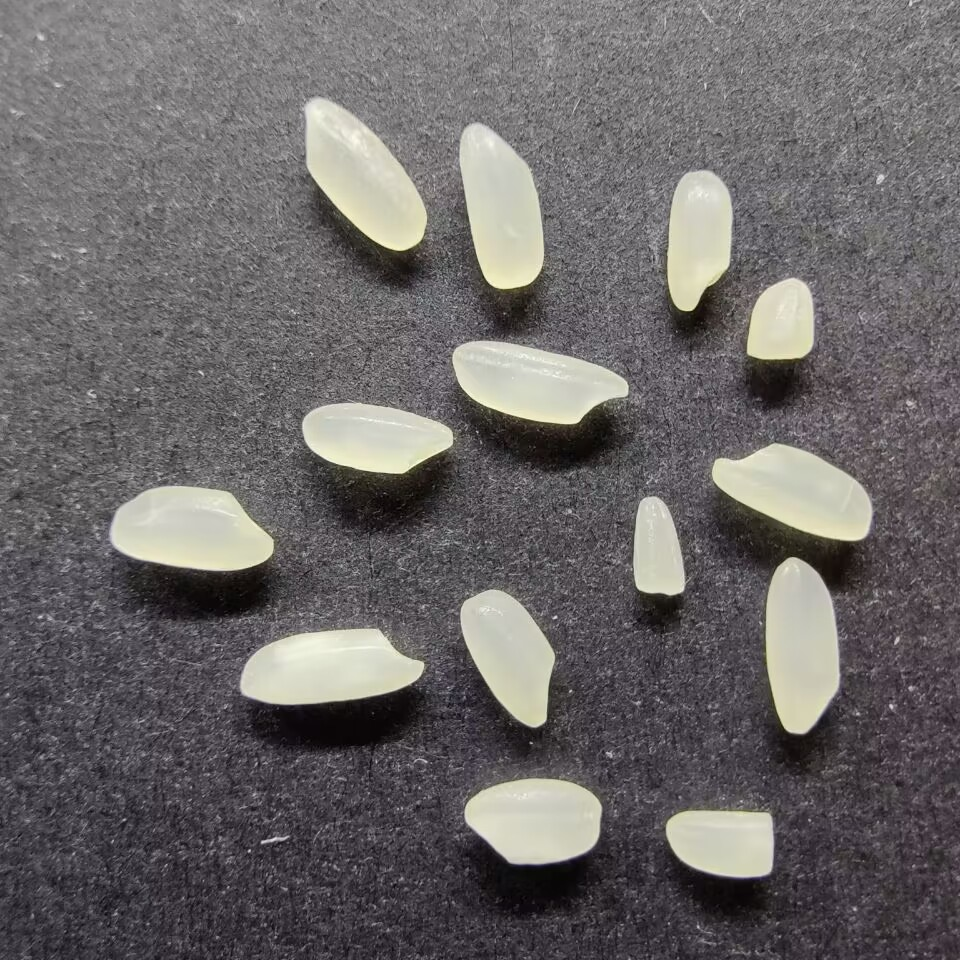broken: (665, 808, 776, 879), (630, 493, 687, 600), (744, 277, 816, 361)
rice: (299, 94, 429, 252), (708, 442, 875, 542), (451, 338, 631, 426), (454, 121, 546, 289), (108, 482, 275, 572), (239, 627, 427, 705), (457, 587, 558, 730), (762, 556, 842, 735), (462, 777, 603, 864), (299, 400, 454, 476), (666, 169, 734, 313)
